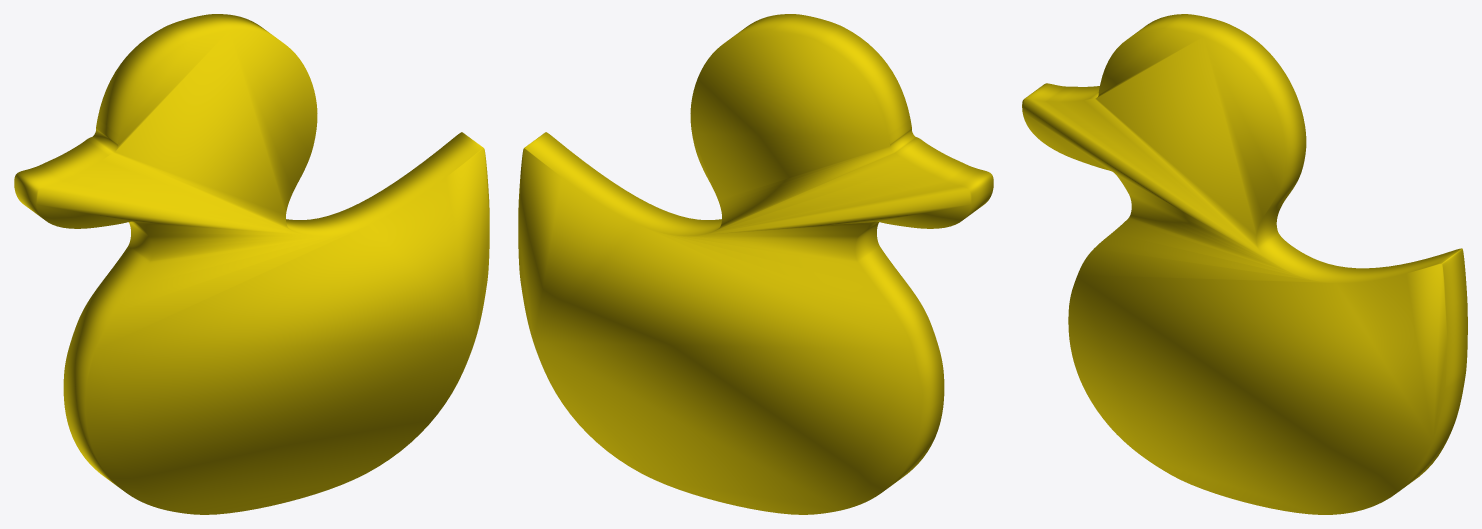
The model's file is duck.glb.
The picture shows the model from 3 angles, left to right: view 1: azimuth 30°, elevation 25°; view 2: azimuth 150°, elevation 25°; view 3: azimuth 330°, elevation 25°; orthographic projection. The views are drawn at different scales.
Parts seen in each view (by area): view 1: duck.svg; view 2: duck.svg; view 3: duck.svg.
Boxes of the visible parts, x1,y1,x2,y2 form: duck.svg: (14, 14, 489, 514); duck.svg: (518, 14, 993, 514); duck.svg: (1022, 14, 1467, 514).
Bounding box in the file's own units: 1.2 × 1.23 × 0.1.
